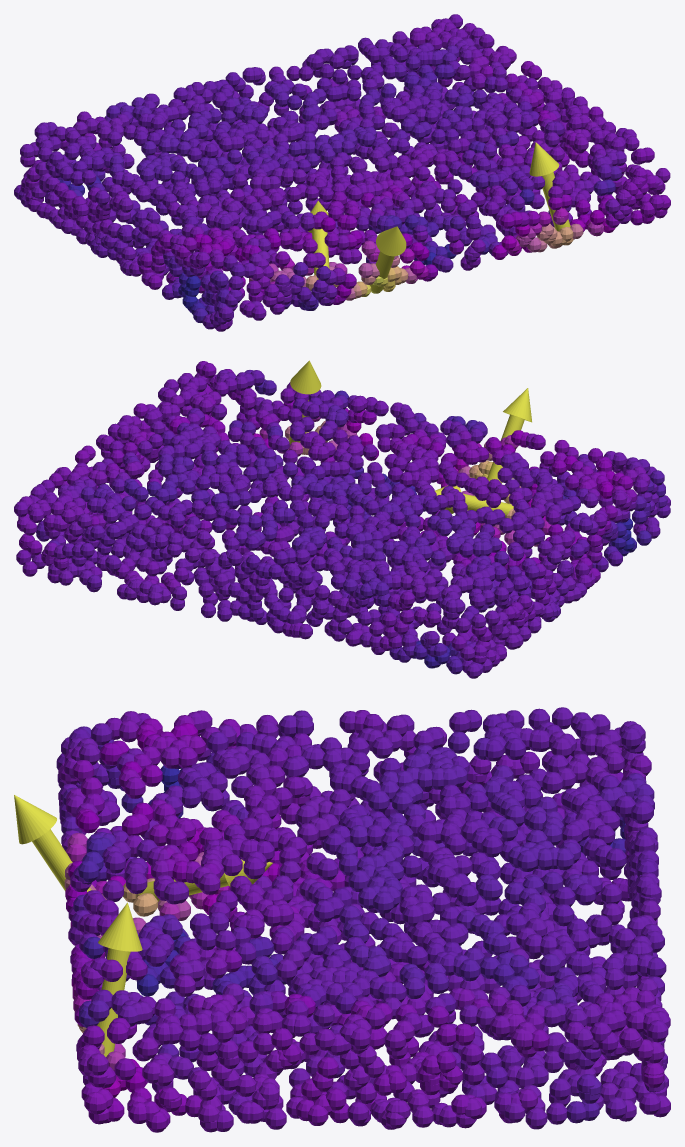
File: pred_heatmap_2.glb
3 views of the same model, one above another, from view 1: azimuth 30°, elevation 25°; view 2: azimuth 150°, elevation 25°; view 3: azimuth 270°, elevation 25° (orthographic). The views are drawn at different scales.
Parts seen in each view (by area): view 1: world; view 2: world; view 3: world.
Boxes of the visible parts, x1,y1,x2,y2 form: world: (14, 14, 670, 331); world: (14, 360, 670, 678); world: (14, 707, 670, 1132).
Size of the model in its own units: 2.1 by 0.4431 by 1.75.
